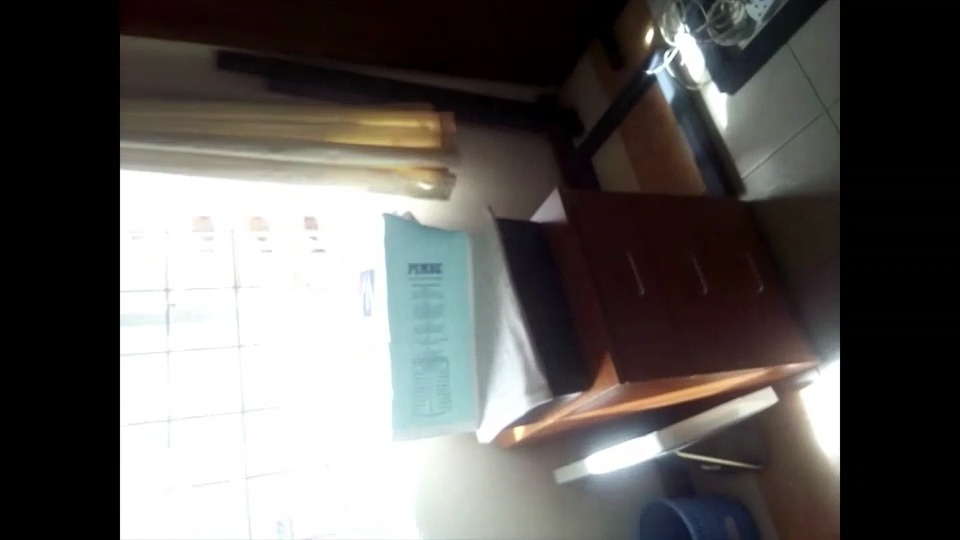wheat_flour_blue_label: (358, 213, 481, 427)
